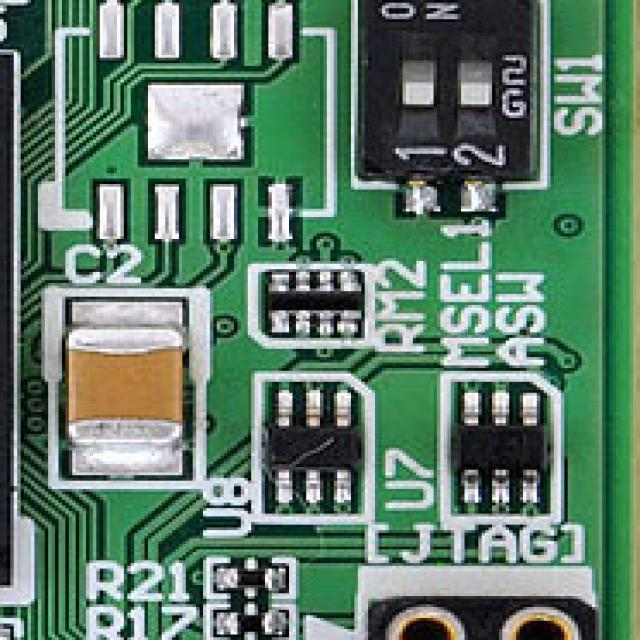IC: (444, 368, 554, 519), (255, 374, 368, 519), (0, 47, 14, 588)
capacitor: (41, 283, 210, 489)
component text: (389, 138, 506, 168), (492, 50, 526, 118), (372, 0, 461, 22)
connector: (347, 568, 591, 640)
pads: (38, 0, 334, 239)
resistor: (248, 266, 364, 341), (203, 604, 292, 638), (206, 558, 289, 593), (0, 618, 21, 640)
switch: (348, 0, 544, 212)
